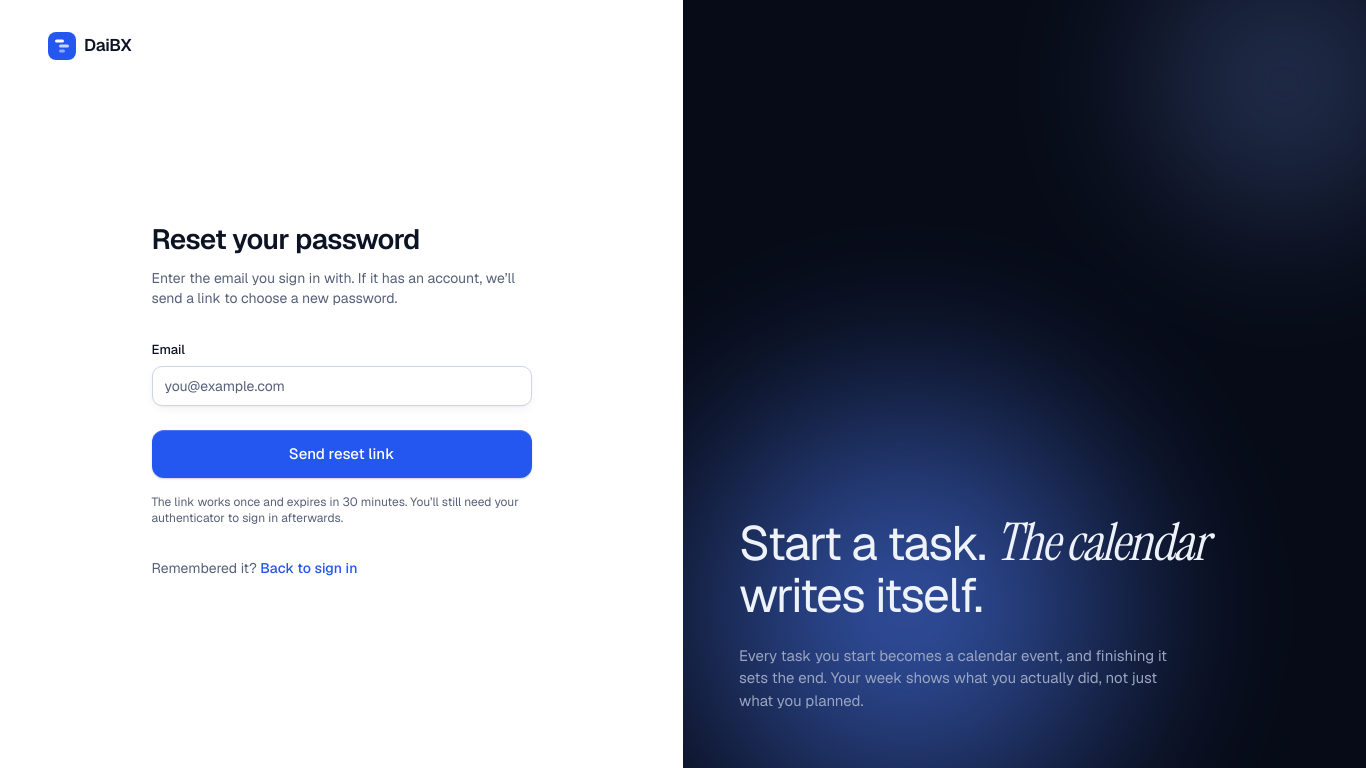
asking too often shows how long to wait
The image size is (1366, 768).
Step 1. Type "shan@daibx.test" into the field labelled "Email" → [342, 386], box [152,366,532,406]
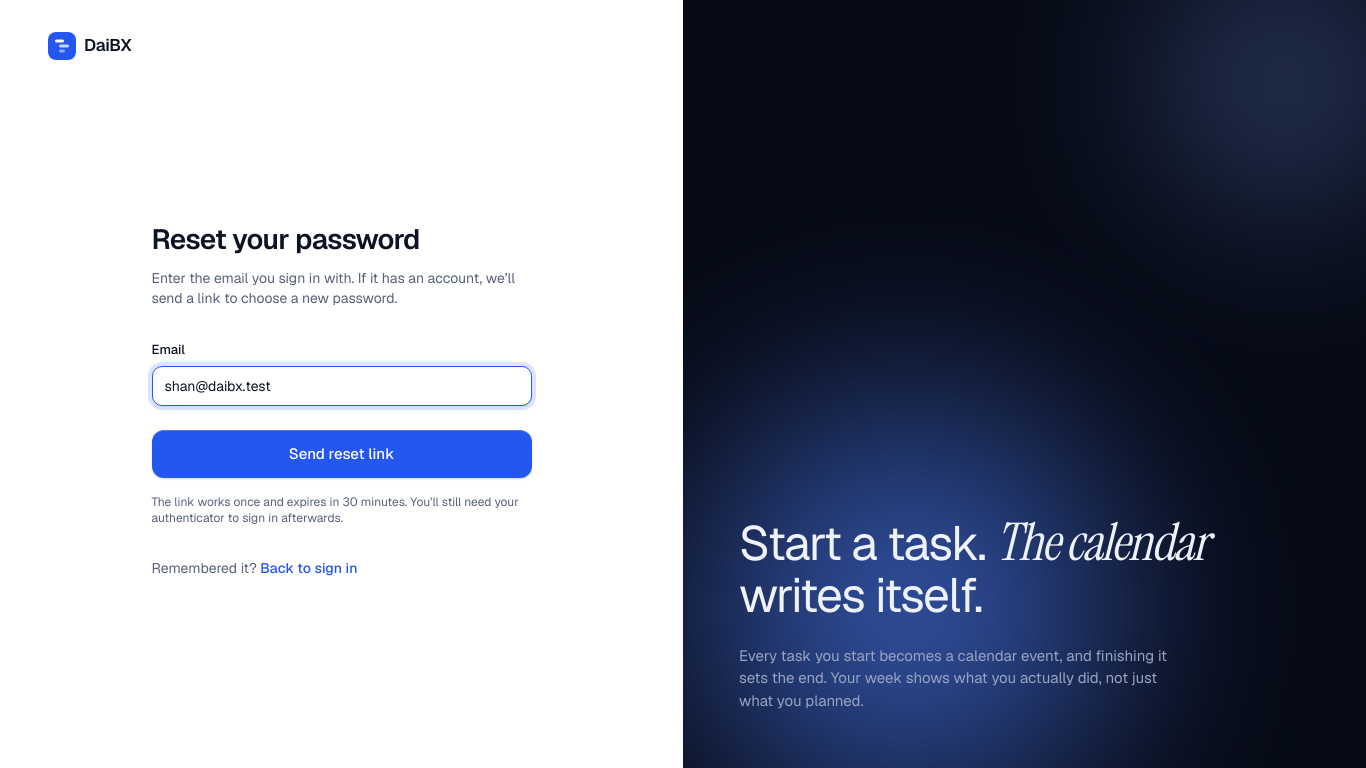
Step 2. Click the button "Send reset link" → [342, 454], box [152,430,532,478]
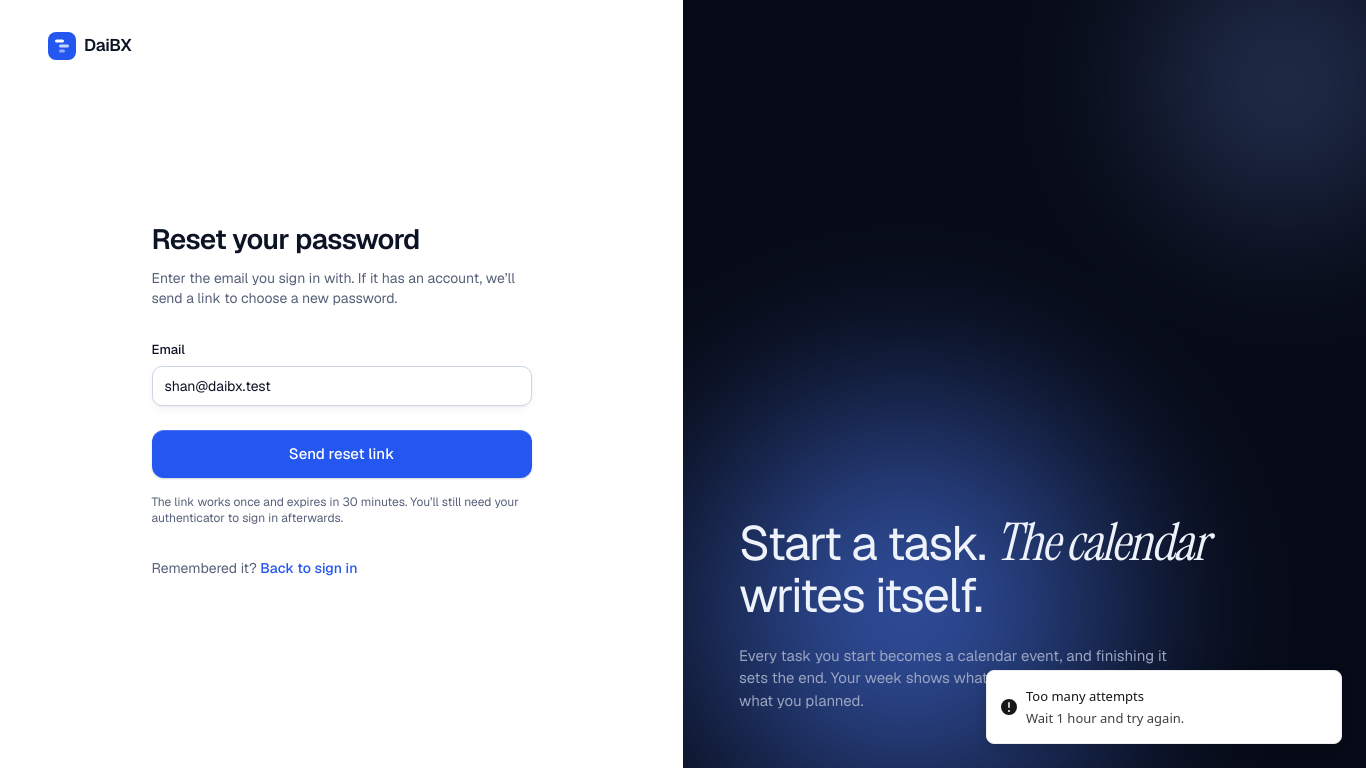
Result: the text "Wait 1 hour and try again." is shown at [1026,709,1184,727]
